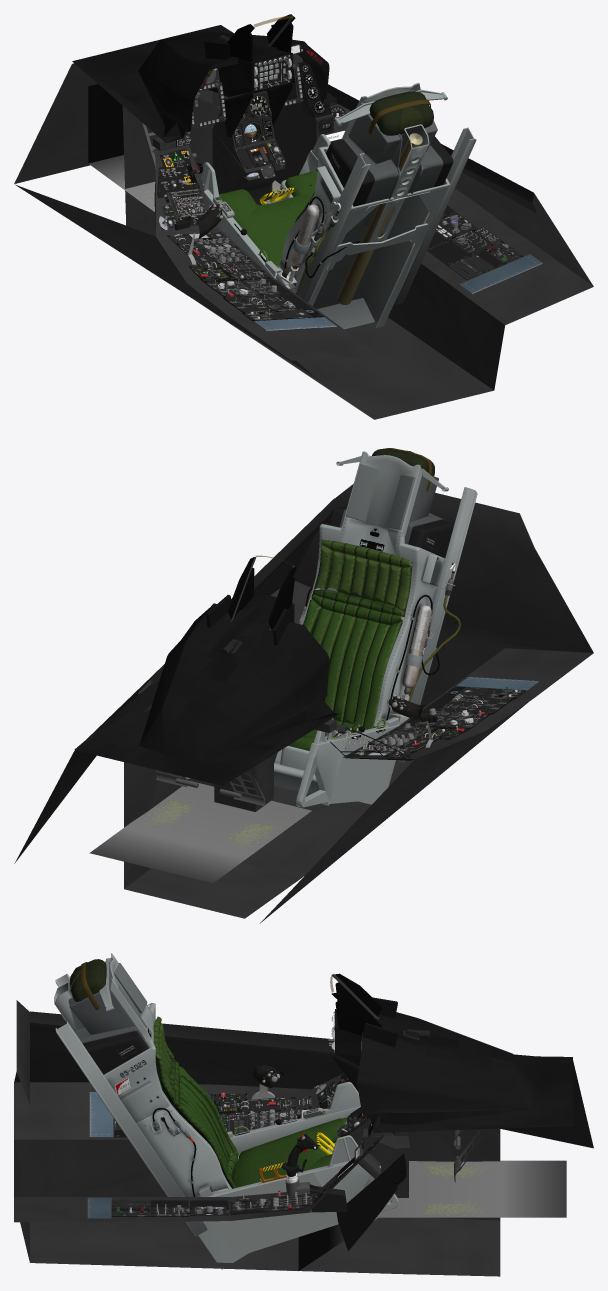
Rendered from f16-cockpit.glb.
3 views of the same model, one above another, from view 1: azimuth 30°, elevation 25°; view 2: azimuth 150°, elevation 25°; view 3: azimuth 270°, elevation 25° (orthographic). The views are drawn at different scales.
Parts seen in each view (by area): view 1: panels|panels.png, ac3dmat13|texture.png (×2), minorPanels|panelsMinor.png, ac3dmat1.001|texture.png, ac3dmat7|seat-cushion2.png, floor|floor.png, MainPanel|panels-MLU-right_console.png, MainPanel|panels-MLU-left_console.png, ac3dmat7.003|grey-blue-flood.png, canopyBorder|, PanelSides.2|panels-B50-left_console.png, ac3dmat12.002| (+11 smaller); view 2: panels|panels.png, minorPanels|panelsMinor.png, ac3dmat13|texture.png (×2), ac3dmat7|seat-cushion.png, floor|floor.png, ac3dmat1.001|texture.png, MainPanel|panels-MLU-left_console.png, ac3dmat0.005|, PanelSides.2|panels-B50-left_console.png, canopyBorder|, ac3dmat12.002|, ac3dmat1|Tex_0004_1.jpg (+3 smaller); view 3: panels|panels.png, minorPanels|panelsMinor.png, ac3dmat13|texture.png (×2), floor|floor.png, ac3dmat1.001|texture.png, ac3dmat7|seat-cushion.png, canopyBorder|, ac3dmat7|seat-cushion2.png, PanelSides.1|, MainPanel|panels-MLU-right_console.png, ac3dmat0.005|, MainPanel|panels-MLU-left_console.png (+9 smaller).
Part boxes in pixels (bbox=[...]): panels|panels.png: bbox=[14, 54, 593, 419]; ac3dmat13|texture.png (×2): bbox=[217, 82, 453, 329]; minorPanels|panelsMinor.png: bbox=[72, 24, 336, 143]; ac3dmat1.001|texture.png: bbox=[198, 89, 476, 304]; ac3dmat7|seat-cushion2.png: bbox=[219, 170, 317, 265]; floor|floor.png: bbox=[88, 84, 280, 327]; MainPanel|panels-MLU-right_console.png: bbox=[427, 205, 523, 280]; MainPanel|panels-MLU-left_console.png: bbox=[186, 232, 323, 318]; ac3dmat7.003|grey-blue-flood.png: bbox=[293, 91, 433, 253]; canopyBorder|: bbox=[212, 49, 536, 252]; PanelSides.2|panels-B50-left_console.png: bbox=[176, 242, 273, 312]; ac3dmat12.002|: bbox=[194, 61, 359, 294]; panels|panels.png: bbox=[14, 484, 593, 923]; minorPanels|panelsMinor.png: bbox=[74, 594, 338, 785]; ac3dmat13|texture.png (×2): bbox=[180, 451, 453, 807]; ac3dmat7|seat-cushion.png: bbox=[303, 539, 412, 732]; floor|floor.png: bbox=[89, 780, 311, 883]; ac3dmat1.001|texture.png: bbox=[274, 455, 477, 807]; MainPanel|panels-MLU-left_console.png: bbox=[350, 686, 490, 756]; ac3dmat0.005|: bbox=[228, 557, 455, 733]; PanelSides.2|panels-B50-left_console.png: bbox=[395, 696, 513, 752]; canopyBorder|: bbox=[151, 498, 431, 685]; ac3dmat12.002|: bbox=[298, 571, 460, 739]; ac3dmat1|Tex_0004_1.jpg: bbox=[399, 605, 431, 716]; panels|panels.png: bbox=[14, 1000, 593, 1276]; minorPanels|panelsMinor.png: bbox=[333, 997, 573, 1132]; ac3dmat13|texture.png (×2): bbox=[54, 953, 398, 1269]; floor|floor.png: bbox=[235, 1123, 566, 1271]; ac3dmat1.001|texture.png: bbox=[55, 958, 370, 1237]; ac3dmat7|seat-cushion.png: bbox=[153, 1016, 238, 1188]; canopyBorder|: bbox=[30, 1011, 334, 1056]; ac3dmat7|seat-cushion2.png: bbox=[232, 1117, 346, 1187]; PanelSides.1|: bbox=[111, 1100, 406, 1250]; MainPanel|panels-MLU-right_console.png: bbox=[111, 1193, 311, 1216]; ac3dmat0.005|: bbox=[234, 973, 382, 1135]; MainPanel|panels-MLU-left_console.png: bbox=[114, 1093, 311, 1137].
Size of what is drawn, in the model's own units: 1.24 by 1.17 by 2.17.
Materials: 192 (164 with a texture image).
